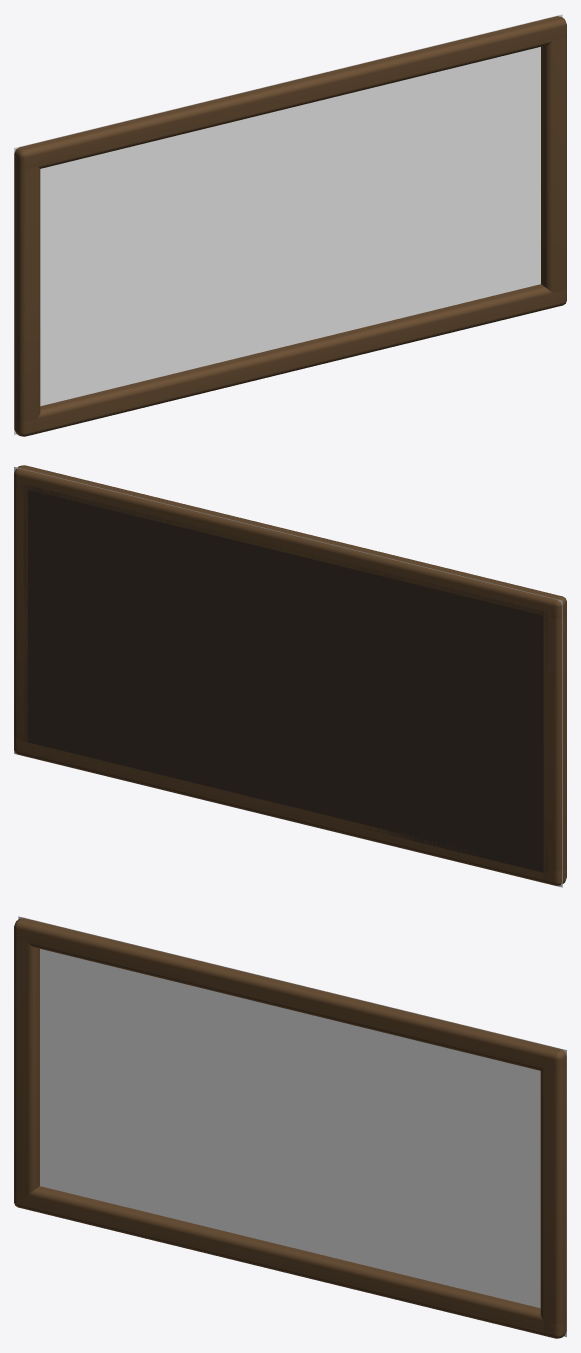
Rendered from furn_lh_map.glb.
3 renders of one model, top to bottom at view 1: azimuth 30°, elevation 25°; view 2: azimuth 150°, elevation 25°; view 3: azimuth 330°, elevation 25°, orthographic.
Parts seen in each view (by area): view 1: furn_lh_map_pic, furn_lh_map_main; view 2: furn_lh_map_main, furn_lh_map_pic; view 3: furn_lh_map_pic, furn_lh_map_main.
Part boxes in pixels (x1,y1,x2,y2): furn_lh_map_pic: (14,14,562,434); furn_lh_map_main: (14,16,566,436); furn_lh_map_main: (14,465,566,885); furn_lh_map_pic: (14,467,562,887); furn_lh_map_pic: (18,916,566,1336); furn_lh_map_main: (14,918,566,1338).
Bounding box in the file's own units: 2 × 1 × 0.06.
